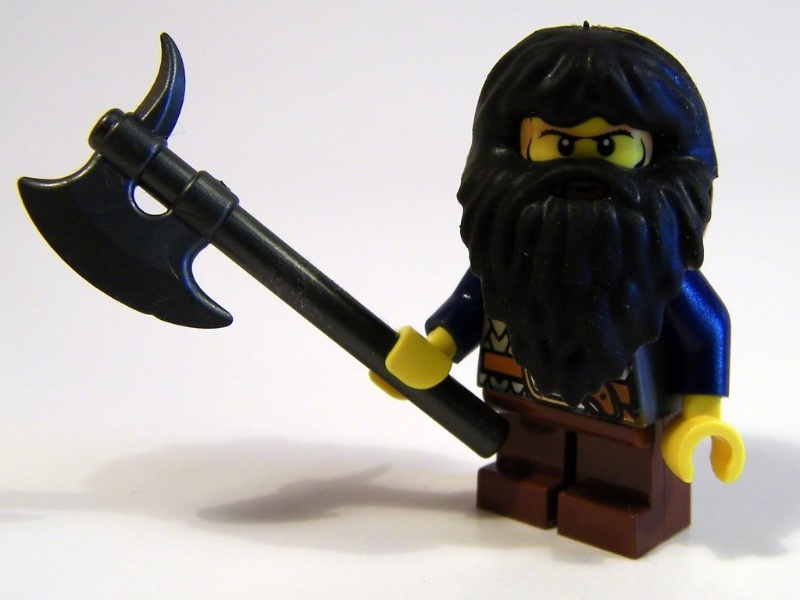axe: (15, 24, 280, 351)
